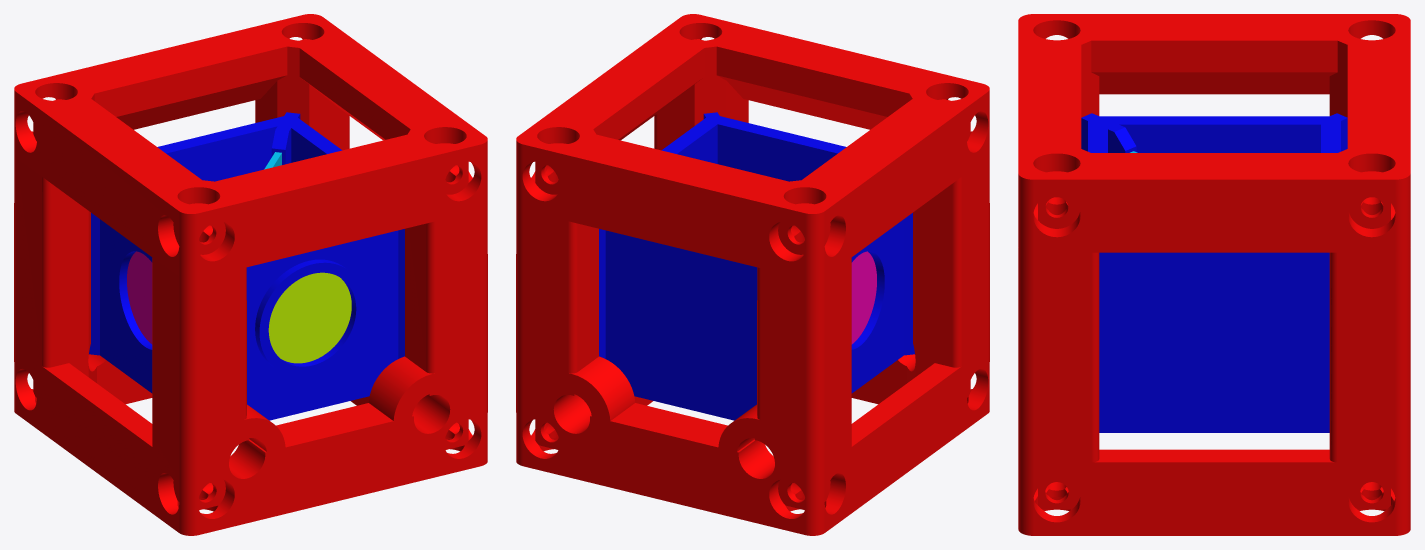
Rendered from Cube 1x1 (Filter).fbx.
3 views of the same model, side by side, from view 1: azimuth 30°, elevation 25°; view 2: azimuth 150°, elevation 25°; view 3: azimuth 270°, elevation 25° (orthographic). The views are drawn at different scales.
Parts seen in each view (by area): view 1: Base Cube 1x1 (Filter); view 2: Base Cube 1x1 (Filter); view 3: Base Cube 1x1 (Filter).
Part boxes in pixels (x1=…): Base Cube 1x1 (Filter): x1=14, y1=14, x2=487, y2=535; Base Cube 1x1 (Filter): x1=516, y1=14, x2=989, y2=535; Base Cube 1x1 (Filter): x1=1018, y1=14, x2=1410, y2=535.
Bounding box in the file's own units: 4.98 × 4.99 × 4.98.
